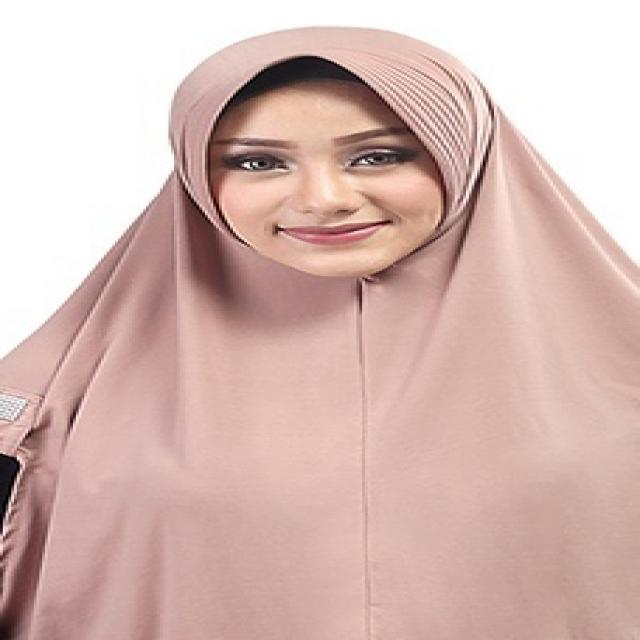head: (168, 28, 504, 286)
